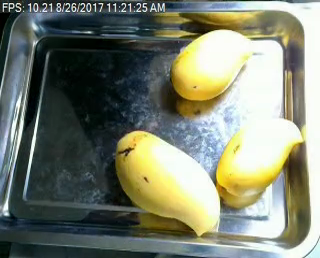Mango: (114, 130, 218, 233), (215, 116, 303, 197), (171, 28, 253, 99)
